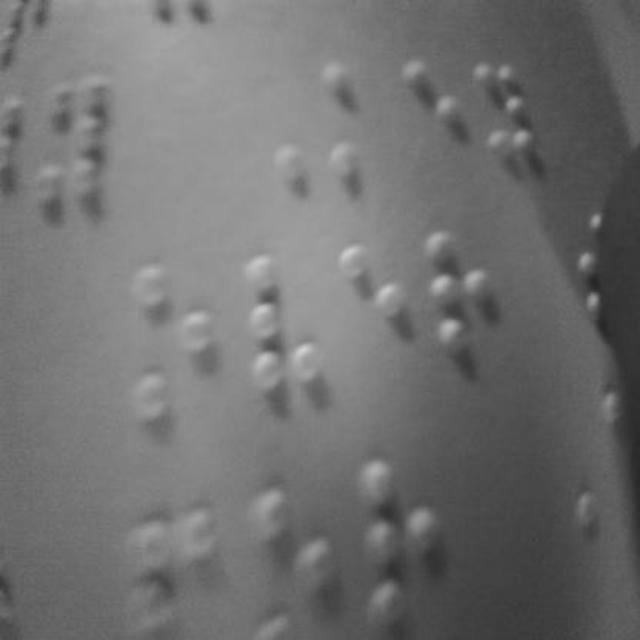braiile: (125, 262, 218, 428), (356, 458, 442, 632), (242, 250, 324, 400), (34, 66, 116, 212), (426, 219, 499, 365), (335, 238, 407, 386), (318, 54, 392, 190), (398, 55, 468, 188), (469, 58, 541, 174)
